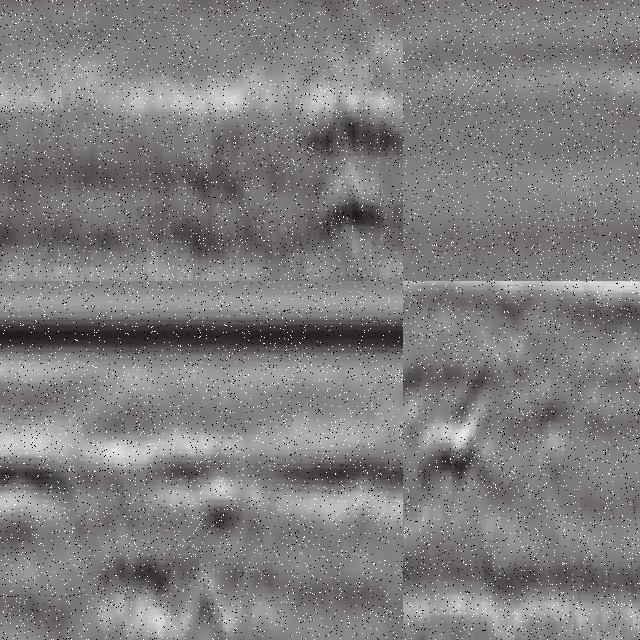loose: (1, 432, 269, 640), (404, 352, 573, 500)
